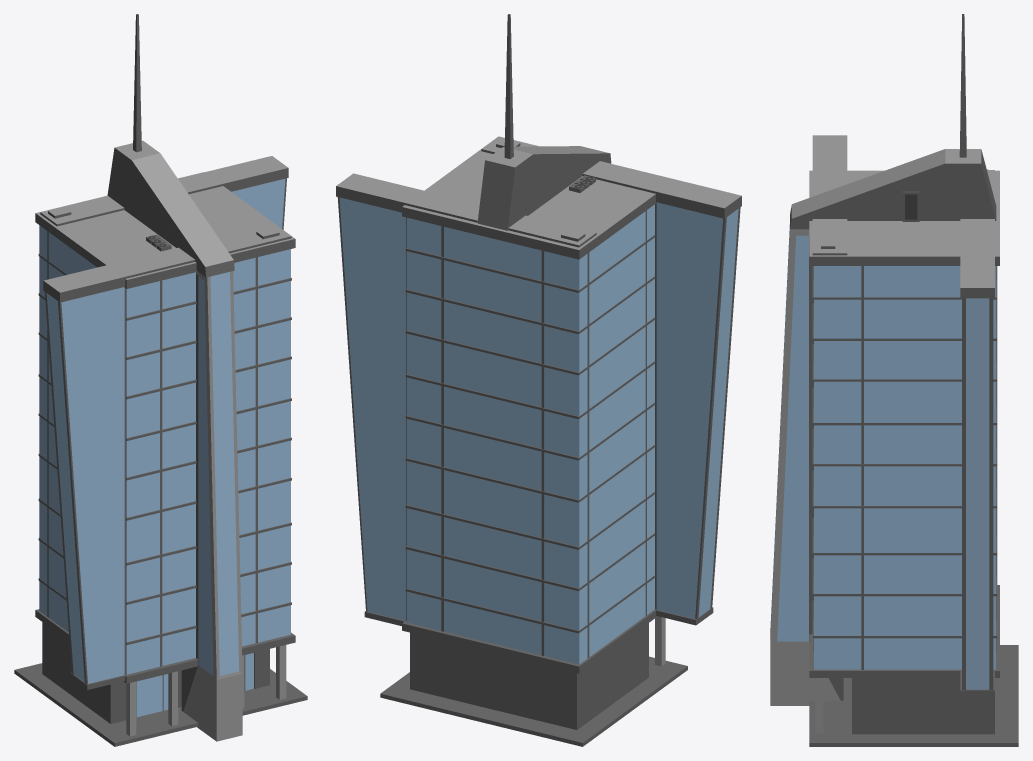
Rendered from business_center_007.glb.
The picture shows the model from 3 angles, left to right: view 1: azimuth 30°, elevation 25°; view 2: azimuth 150°, elevation 25°; view 3: azimuth 270°, elevation 25°; orthographic projection. The views are drawn at different scales.
Visible parts, largest first — view 1: business_center_007; view 2: business_center_007; view 3: business_center_007.
Boxes of the visible parts, x1=… form: business_center_007: x1=14, y1=14, x2=307, y2=746; business_center_007: x1=336, y1=14, x2=741, y2=746; business_center_007: x1=770, y1=14, x2=1018, y2=746.
Size of the model in its own units: 22.42 by 46.98 by 15.41.
Materials: 1 (1 with a texture image).
